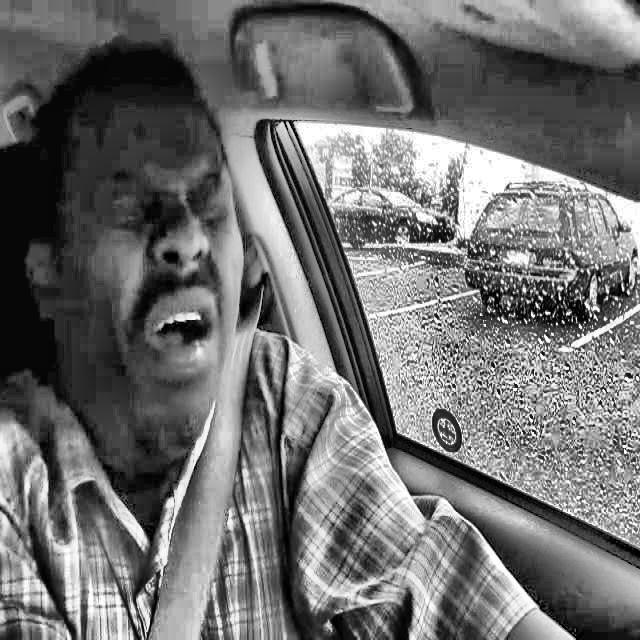open_mouth: (124, 278, 243, 405)
